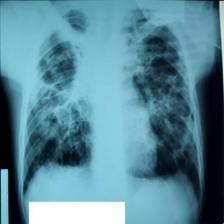tuberculosis: (19, 1, 202, 202)
